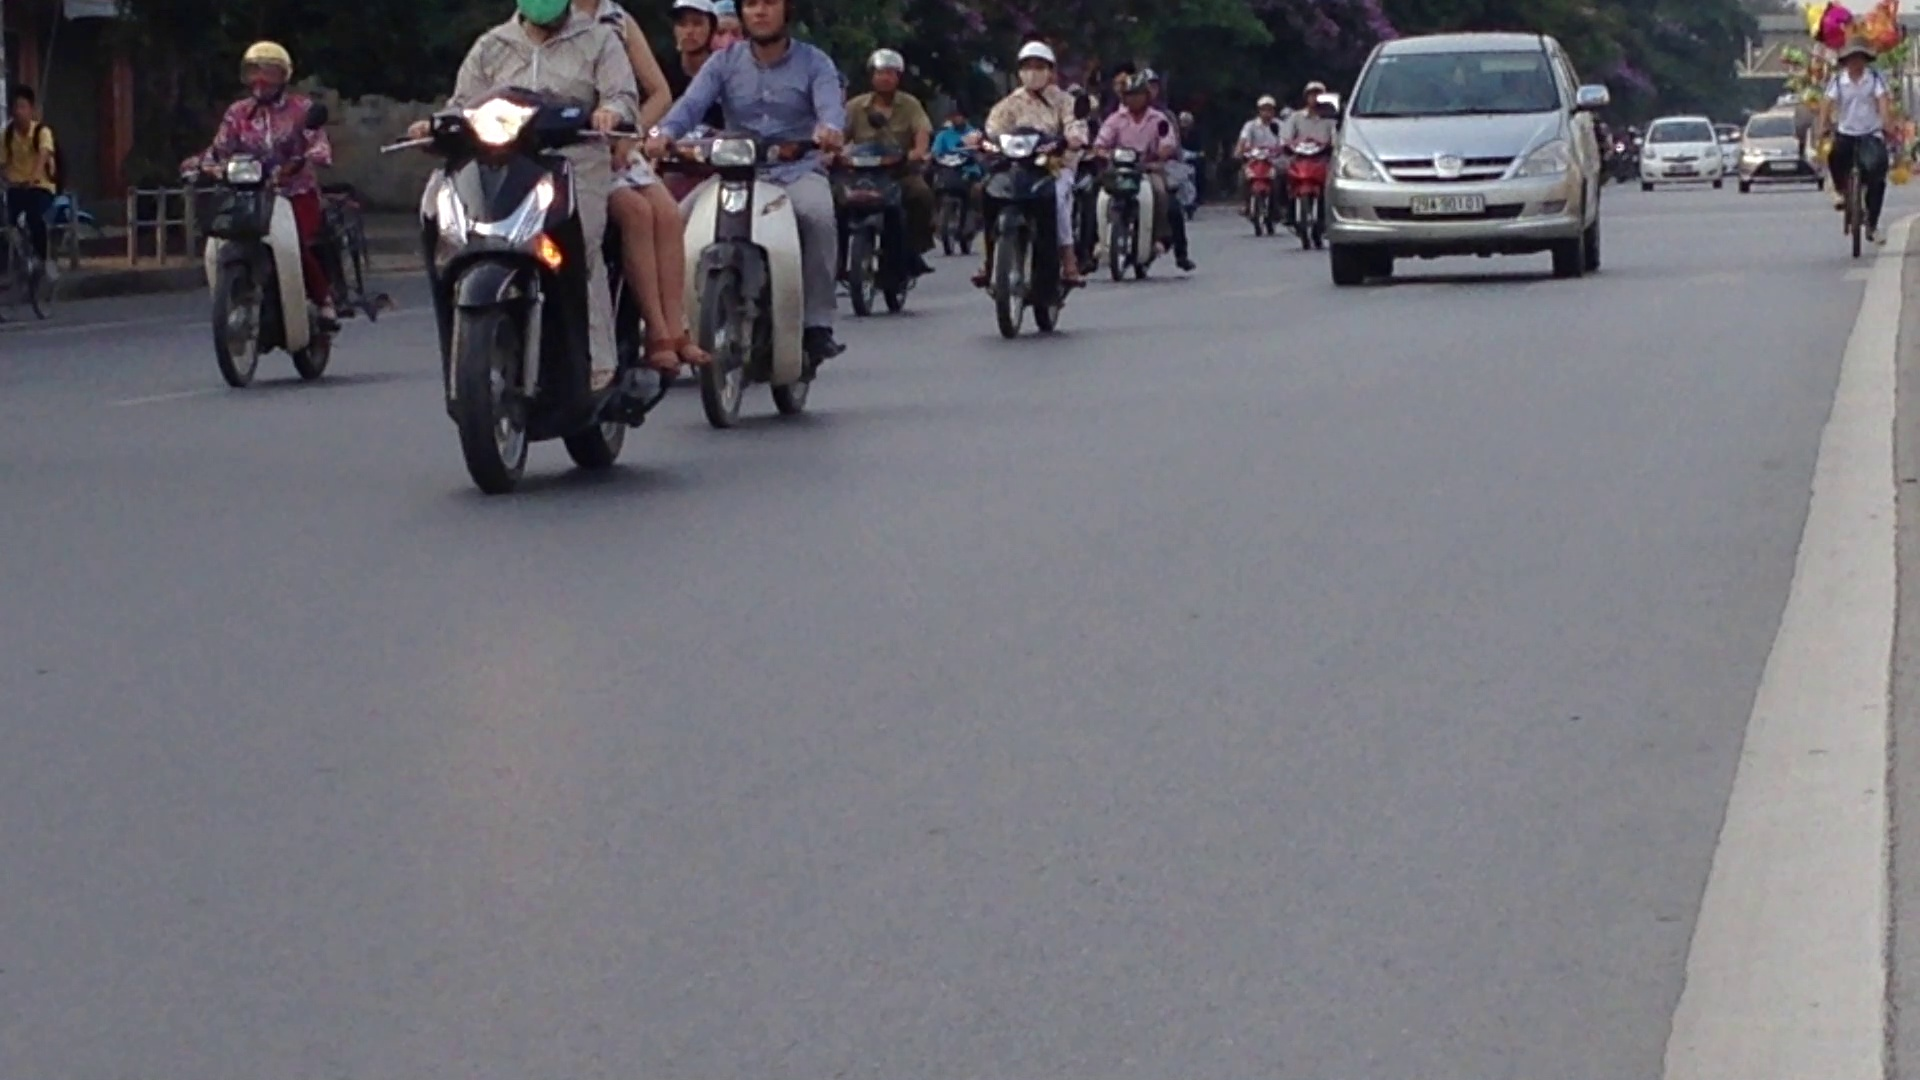vehicle-plate: (1408, 185, 1490, 218)
